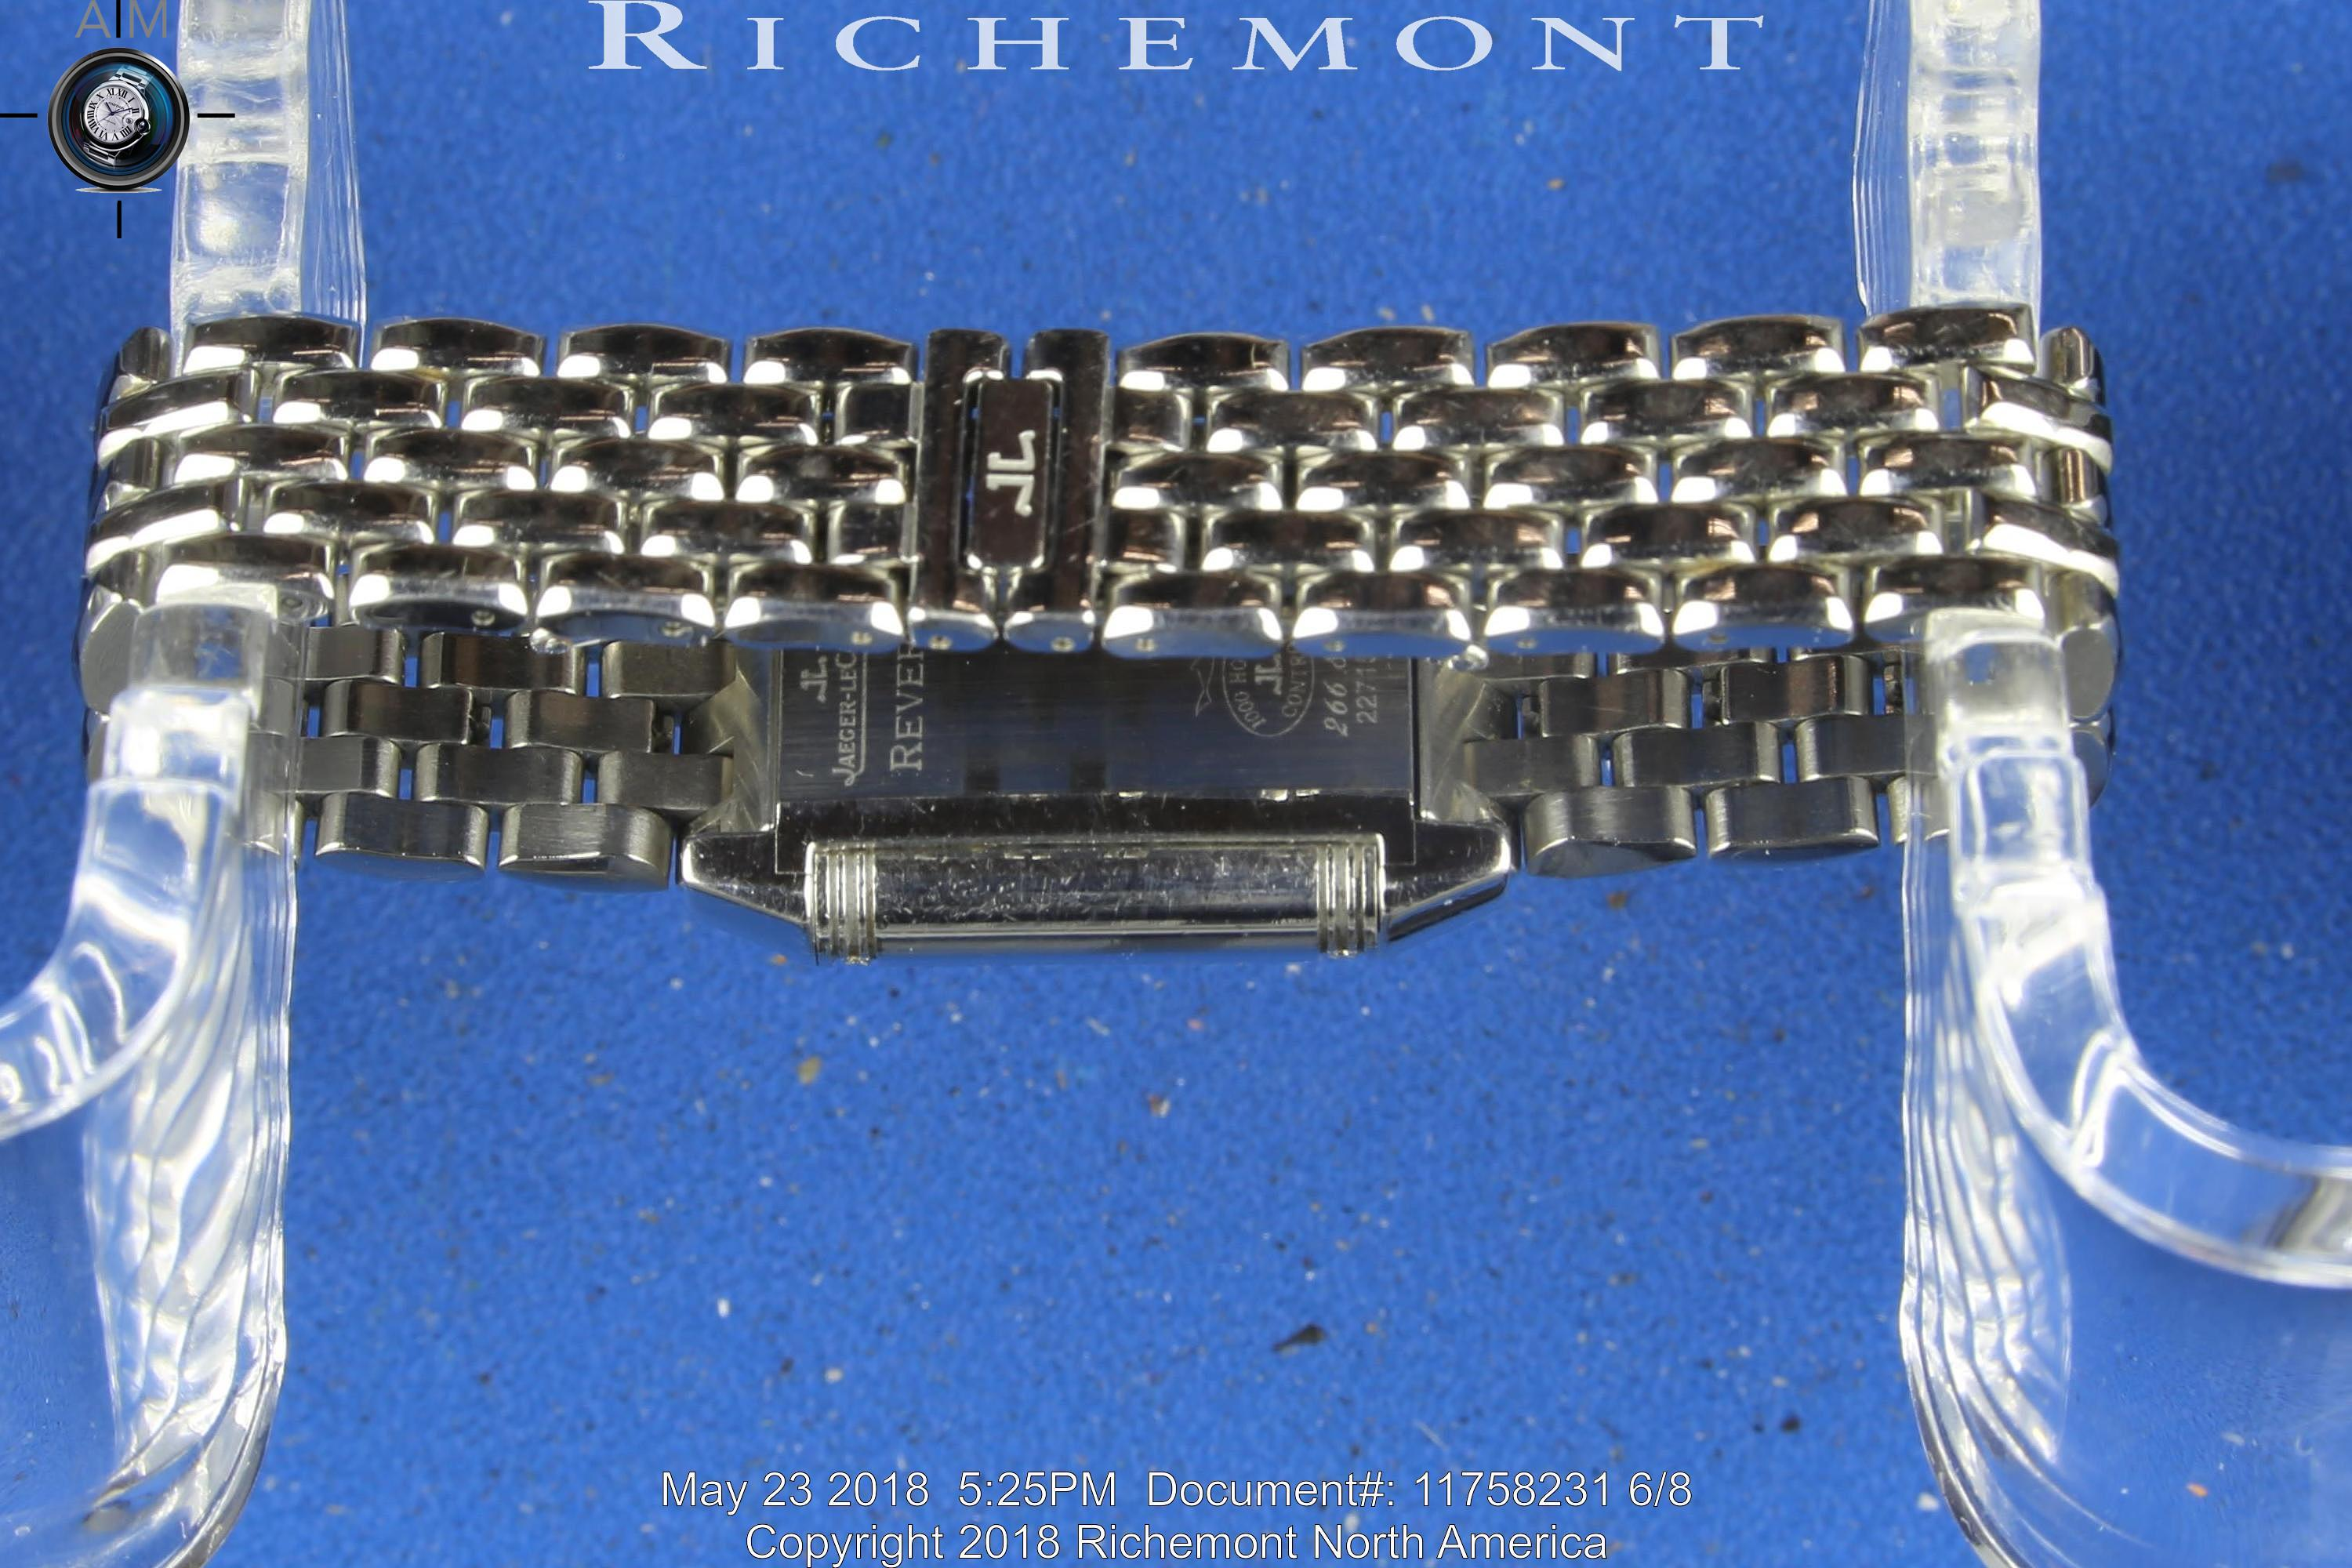Watch Back Case: (681, 634, 1514, 971)
